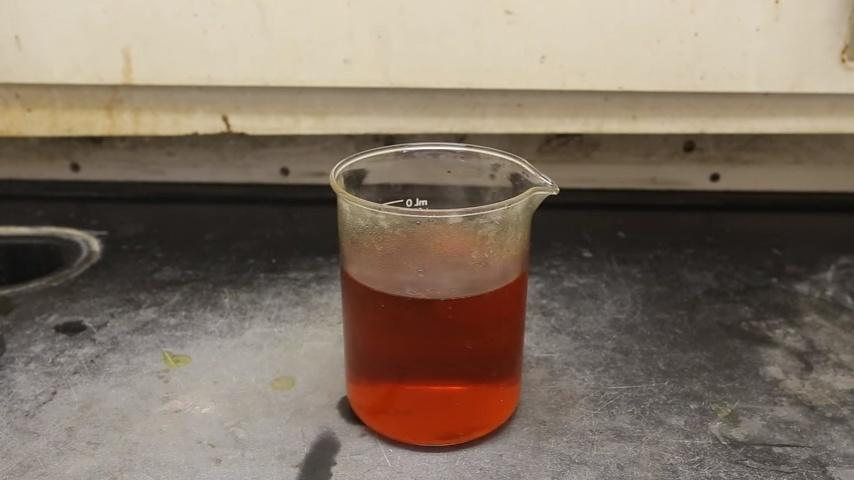Beaker: (313, 145, 561, 451)
